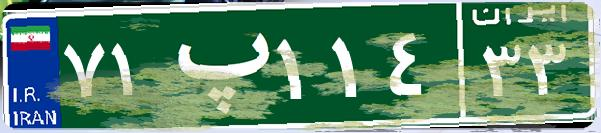1: (273, 28, 330, 110), (330, 28, 385, 110), (110, 28, 158, 105)
3: (475, 38, 525, 113), (525, 38, 570, 115)
4: (385, 28, 445, 110)
7: (57, 26, 110, 107)
پ: (158, 15, 273, 115)
